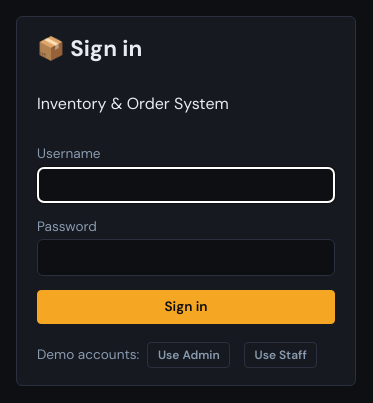
Scenario: LoginPage › fills in demo Admin credentials when "Use Admin" is clicked
The image size is (373, 403).
Click the button "Use Admin".
click(189, 355)  # box 147,342 -> 230,368
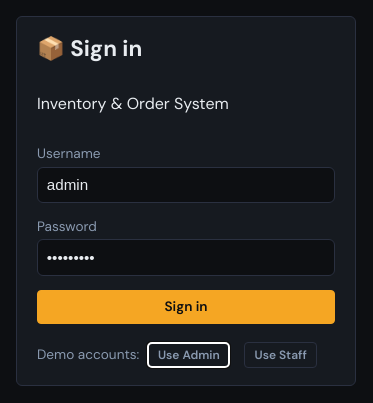
Expected: the field labelled "Username" holds "admin", 37,167 -> 335,203
Expected: the password field labelled "Password" holds "Admin123!", 37,240 -> 335,276
